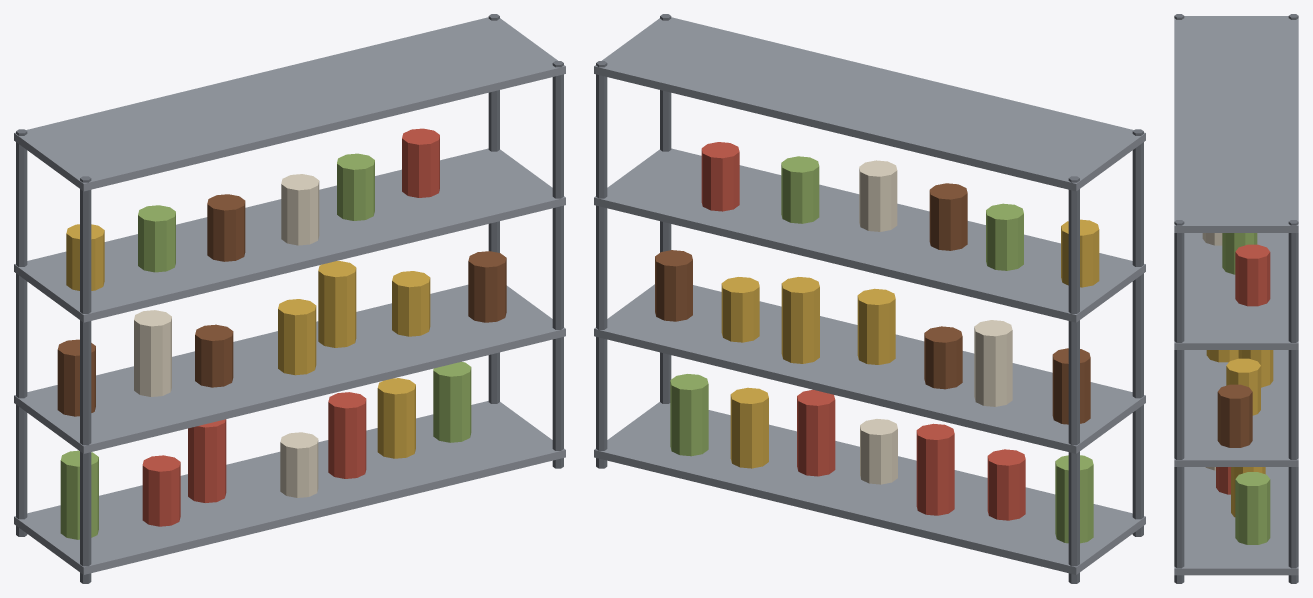
The model's file is shelf_unit.fbx.
3 views of the same model, side by side, from view 1: azimuth 30°, elevation 25°; view 2: azimuth 150°, elevation 25°; view 3: azimuth 270°, elevation 25° (orthographic). The views are drawn at different scales.
Visible parts, largest first — view 1: shelf_unit; view 2: shelf_unit; view 3: shelf_unit.
Boxes of the visible parts, x1=… form: shelf_unit: x1=14, y1=14, x2=565, y2=583; shelf_unit: x1=594, y1=14, x2=1145, y2=583; shelf_unit: x1=1174, y1=14, x2=1298, y2=583.
Bounding box in the file's own units: 2 × 1.6 × 0.5.
